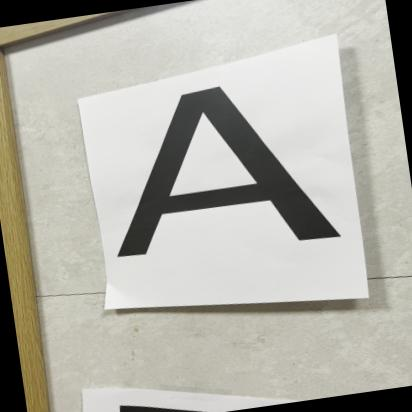seat: (105, 65, 346, 274)
